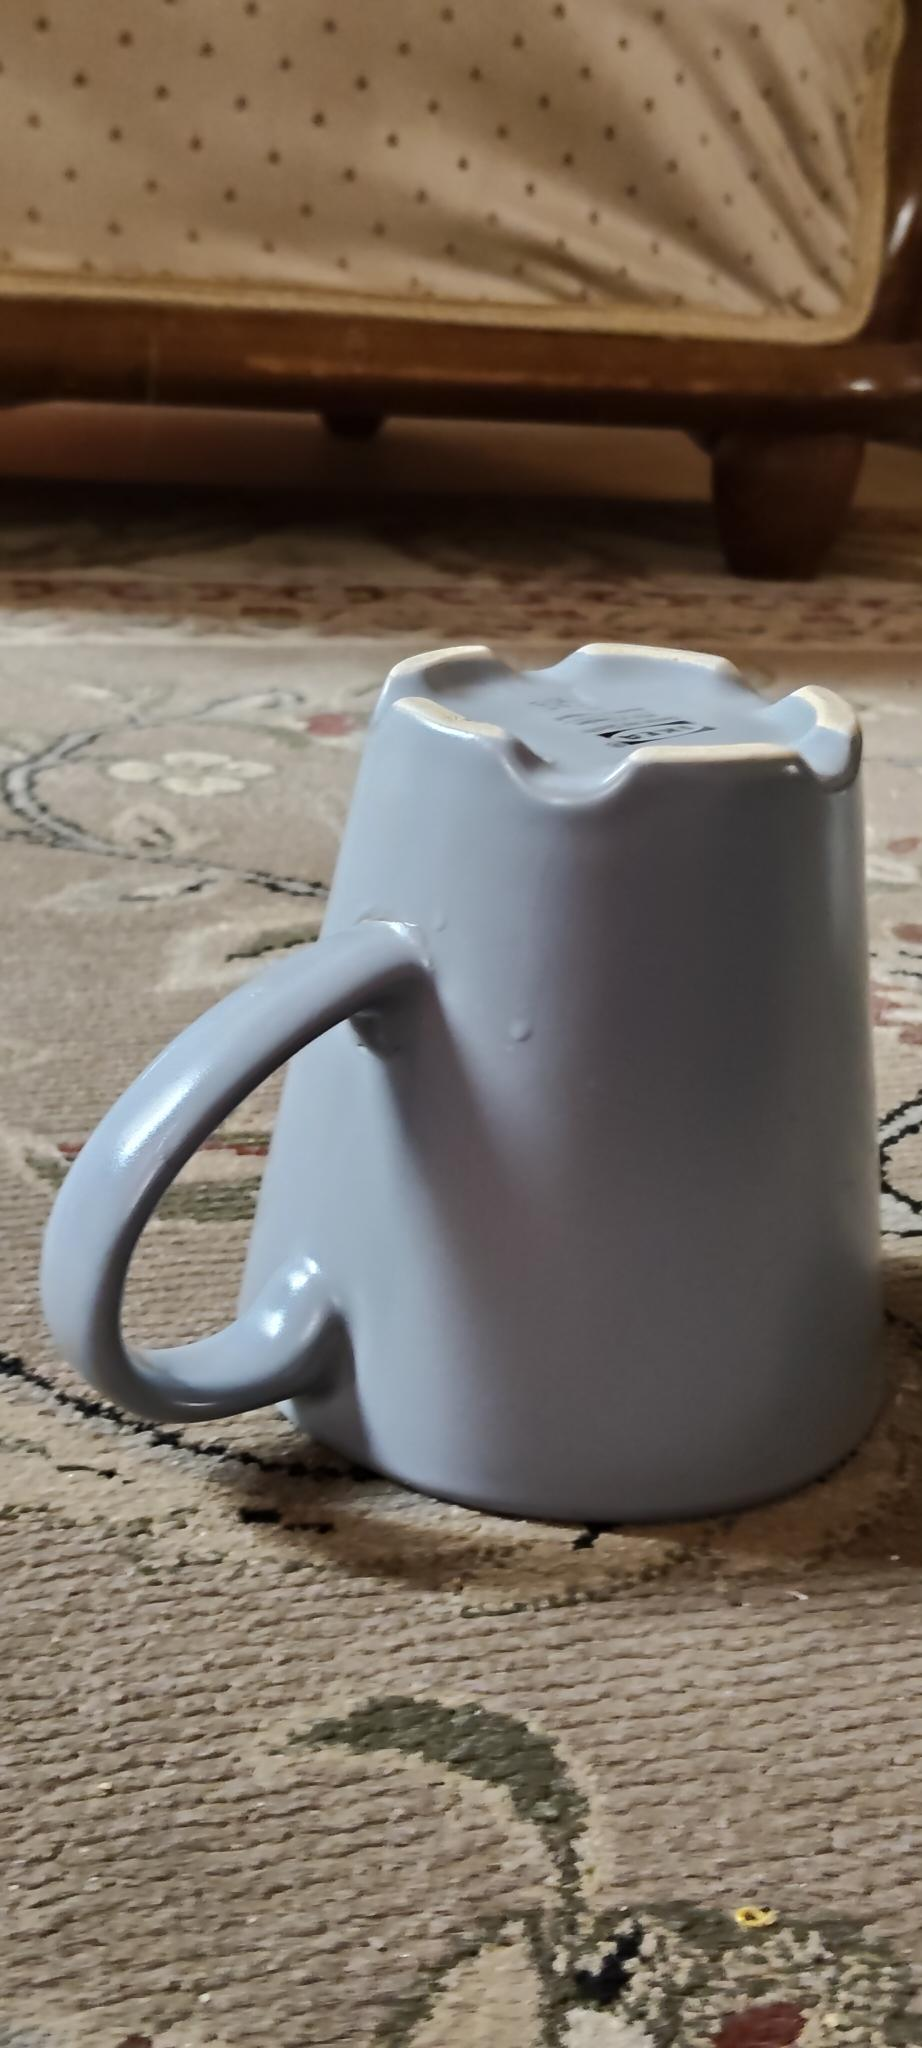Mug: (40, 642, 860, 1527)
